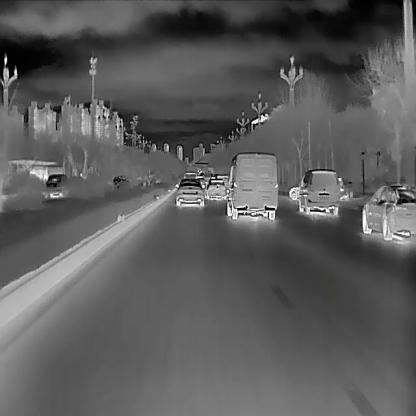car: (225, 151, 277, 219), (361, 182, 415, 240), (298, 168, 340, 214), (174, 178, 204, 206), (43, 172, 69, 198), (204, 178, 227, 199)
